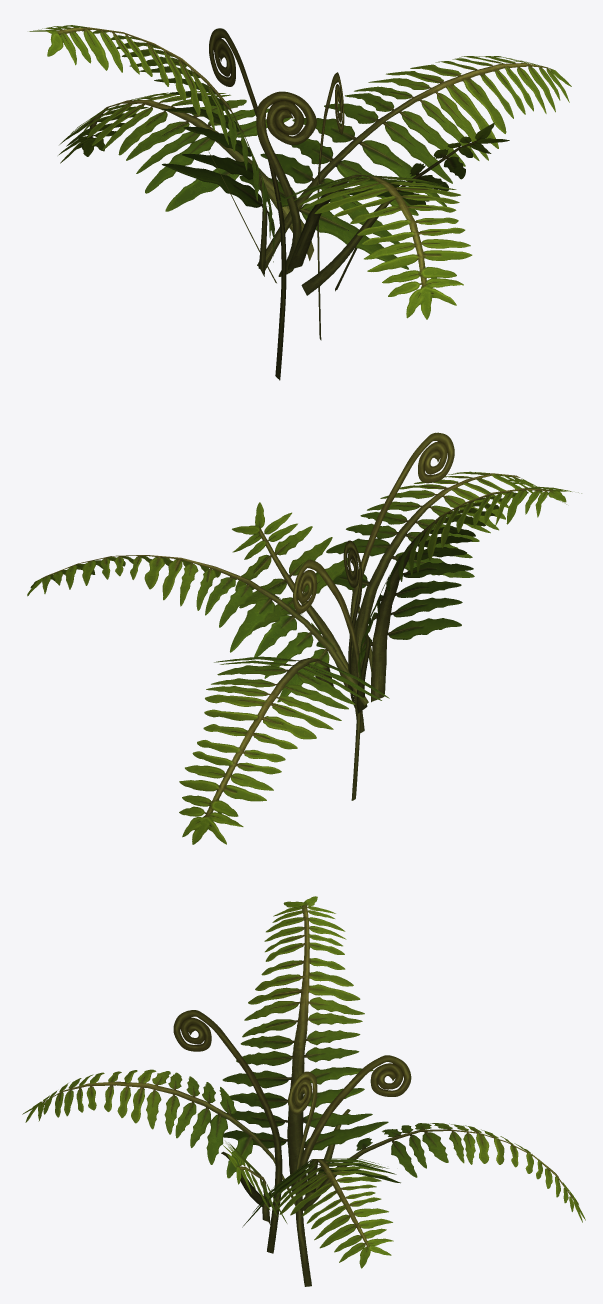
The model's file is fern1.FBX.
3 renders of one model, top to bottom at view 1: azimuth 30°, elevation 25°; view 2: azimuth 150°, elevation 25°; view 3: azimuth 270°, elevation 25°, orthographic. The views are drawn at different scales.
Visible parts, largest first — view 1: FERN1_LOD0; view 2: FERN1_LOD0; view 3: FERN1_LOD0.
Part boxes in pixels (x1,y1,x2,y2): FERN1_LOD0: (29, 25, 571, 380); FERN1_LOD0: (27, 432, 581, 844); FERN1_LOD0: (22, 896, 585, 1286).
Size of what is drawn, in the model's own units: 203 by 133 by 224.
